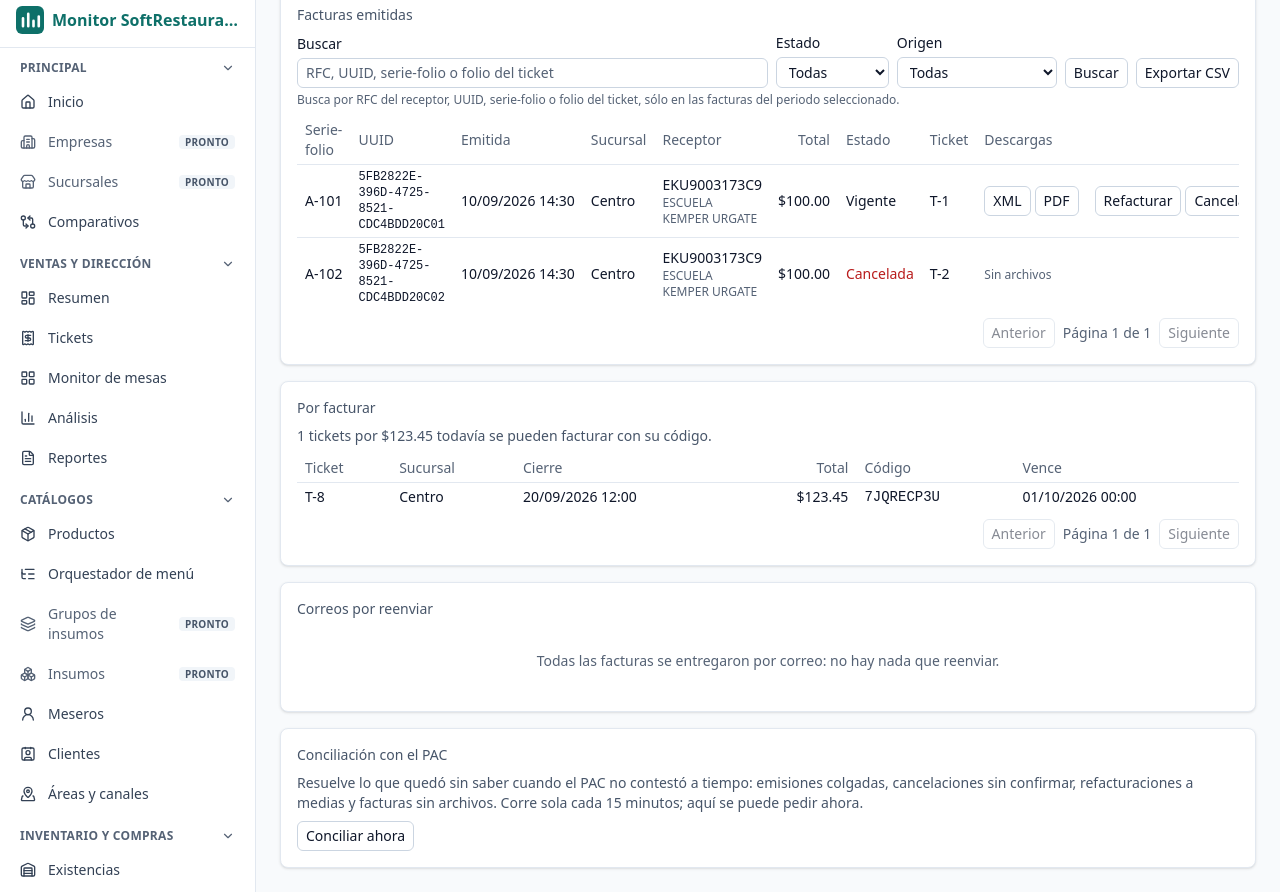
Scenario: tablero de facturación › F2-110b: "Conciliar ahora" pide la vuelta al api, dice el resultado en frases y recarga el tablero
(page scrolled)
Expected: the table with test id "tabla-cfdis" is shown, x1=297 y1=116 x2=1239 y2=310
Click the button "Conciliar ahora" at coordinates (356, 836), box x1=297 y1=821 x2=414 y2=851
(page scrolled)
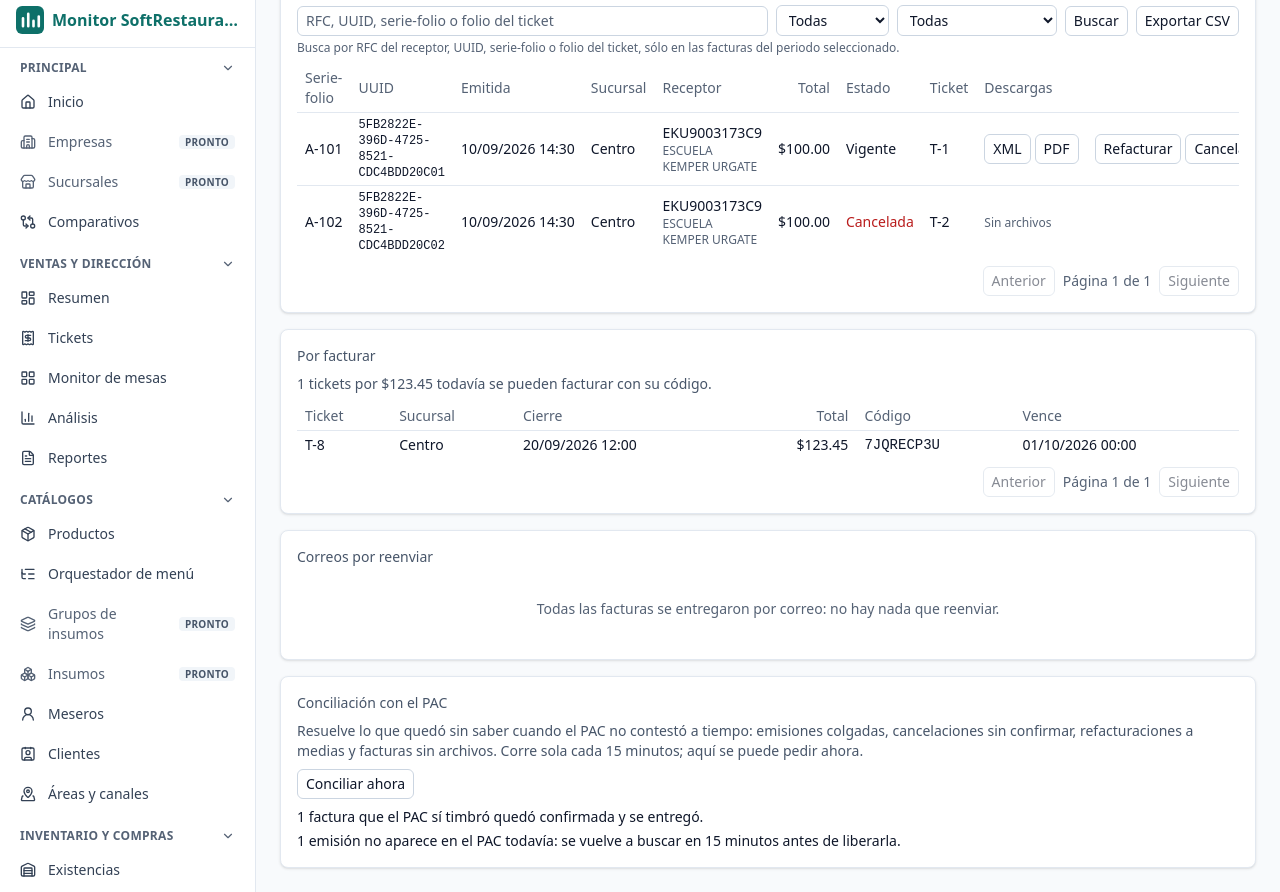
Expected: the message with test id "conciliacion" shows "1 factura que el PAC sí timbró quedó confirmada y se entregó.", x1=297 y1=807 x2=703 y2=826
Expected: the message with test id "conciliacion" shows "1 emisión no aparece en el PAC todavía", x1=297 y1=831 x2=901 y2=850
